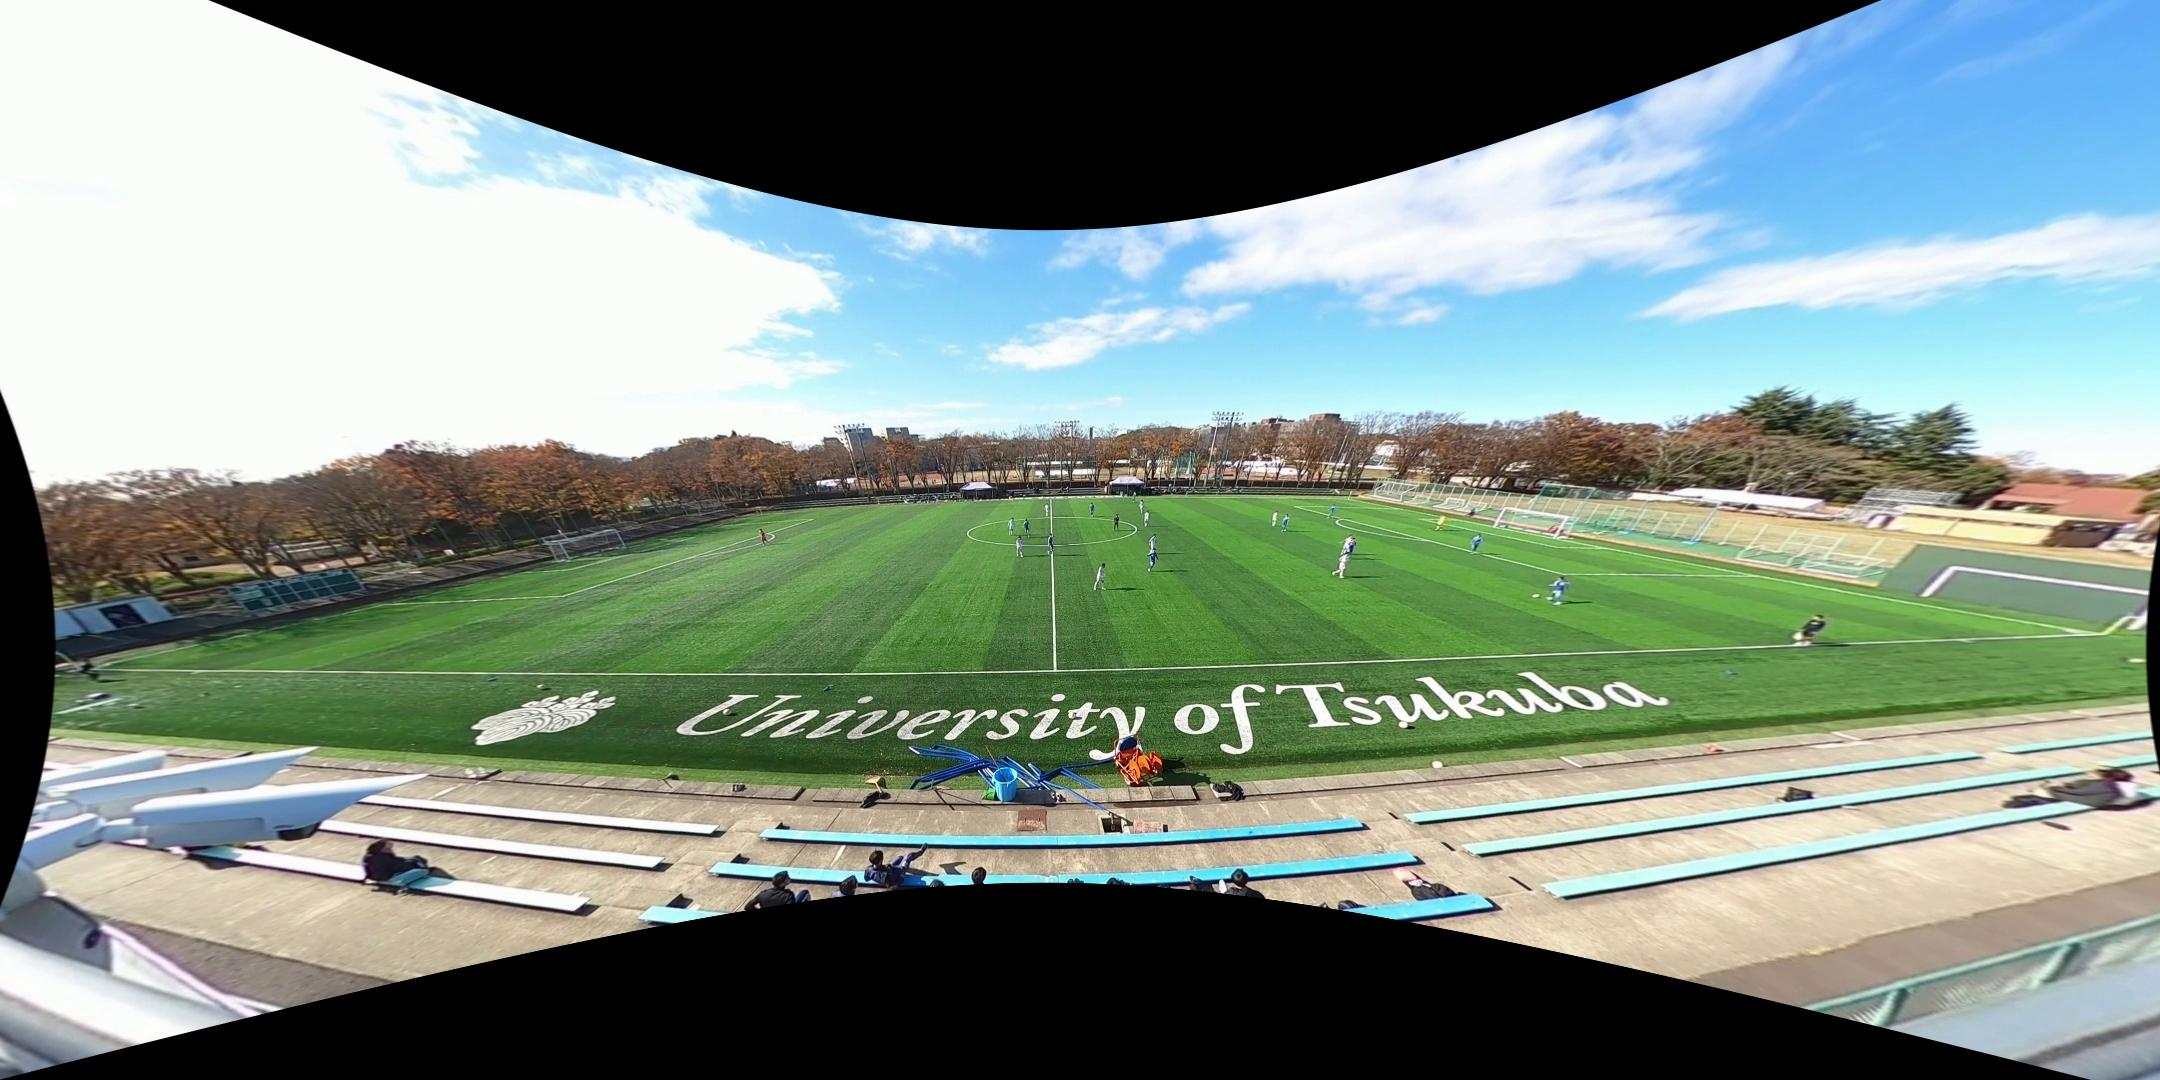person: (1793, 611, 1828, 651), (1547, 575, 1570, 605), (1332, 553, 1351, 579), (1093, 562, 1107, 591), (1145, 548, 1160, 572), (1470, 533, 1484, 555), (1339, 535, 1353, 555), (1344, 537, 1359, 555), (1046, 532, 1056, 556), (1433, 514, 1447, 531), (759, 528, 771, 546), (1015, 535, 1023, 558), (1327, 503, 1338, 519), (1149, 534, 1157, 556), (1282, 513, 1291, 532), (1007, 517, 1016, 536), (1023, 518, 1031, 538), (1143, 510, 1151, 527), (1113, 514, 1120, 532), (1272, 510, 1279, 526), (1044, 502, 1051, 517), (1138, 500, 1146, 513), (1089, 502, 1095, 517), (1133, 491, 1137, 503)
sports ball: (1430, 759, 1446, 771), (1396, 719, 1410, 731), (534, 682, 548, 692), (721, 707, 732, 717), (1530, 592, 1542, 600), (1068, 711, 1076, 721)
